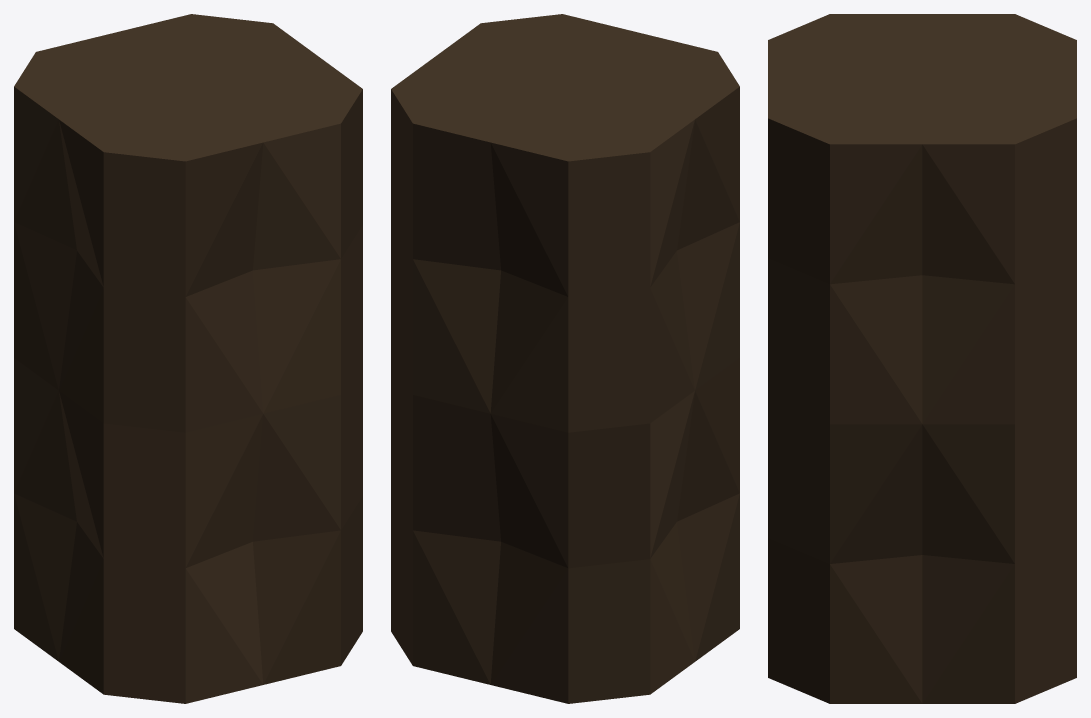
File: Section_1.glb
3 views of the same model, side by side, from view 1: azimuth 30°, elevation 25°; view 2: azimuth 150°, elevation 25°; view 3: azimuth 270°, elevation 25° (orthographic). The views are drawn at different scales.
Visible parts, largest first — view 1: Section; view 2: Section; view 3: Section.
Part boxes in pixels (<box>): Section: <box>14,14,362,703</box>; Section: <box>391,14,739,703</box>; Section: <box>768,14,1076,703</box>.
Bounding box in the file's own units: 2 × 4 × 2.
